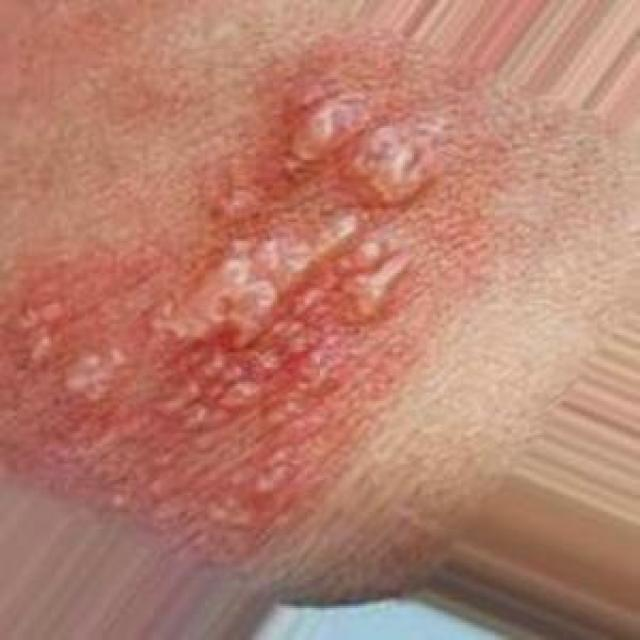Shingles: (12, 80, 438, 501)
